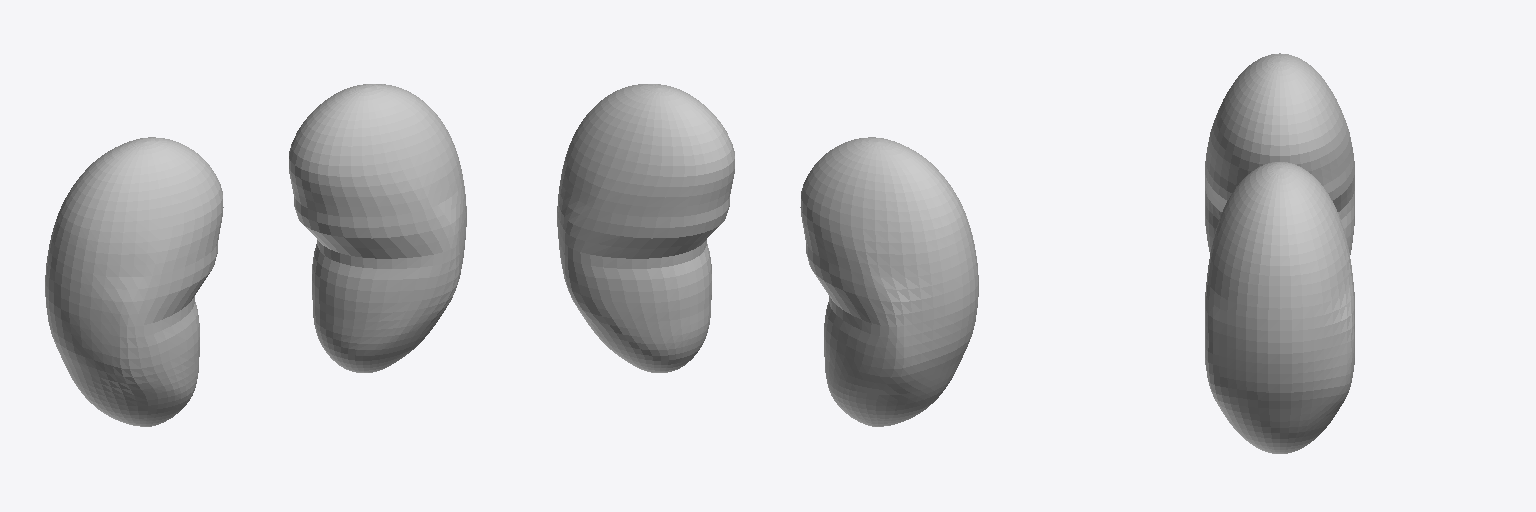
The model's file is 1 red.obj.
3 renders of one model, left to right at view 1: azimuth 30°, elevation 25°; view 2: azimuth 150°, elevation 25°; view 3: azimuth 270°, elevation 25°, orthographic.
Visible parts, largest first — view 1: pasted__polySurface1 pasted__pSphere34 group, pasted__pSphere34 group pasted__polySurface3; view 2: pasted__polySurface1 pasted__pSphere34 group, pasted__pSphere34 group pasted__polySurface3; view 3: pasted__polySurface1 pasted__pSphere34 group, pasted__pSphere34 group pasted__polySurface3.
Boxes of the visible parts, x1=… form: pasted__polySurface1 pasted__pSphere34 group: x1=289, y1=84, x2=466, y2=372; pasted__pSphere34 group pasted__polySurface3: x1=45, y1=137, x2=223, y2=426; pasted__polySurface1 pasted__pSphere34 group: x1=557, y1=84, x2=734, y2=372; pasted__pSphere34 group pasted__polySurface3: x1=800, y1=137, x2=978, y2=426; pasted__polySurface1 pasted__pSphere34 group: x1=1205, y1=162, x2=1354, y2=453; pasted__pSphere34 group pasted__polySurface3: x1=1205, y1=53, x2=1354, y2=254.
Bounding box in the file's own units: 5.48 × 3.65 × 1.76.